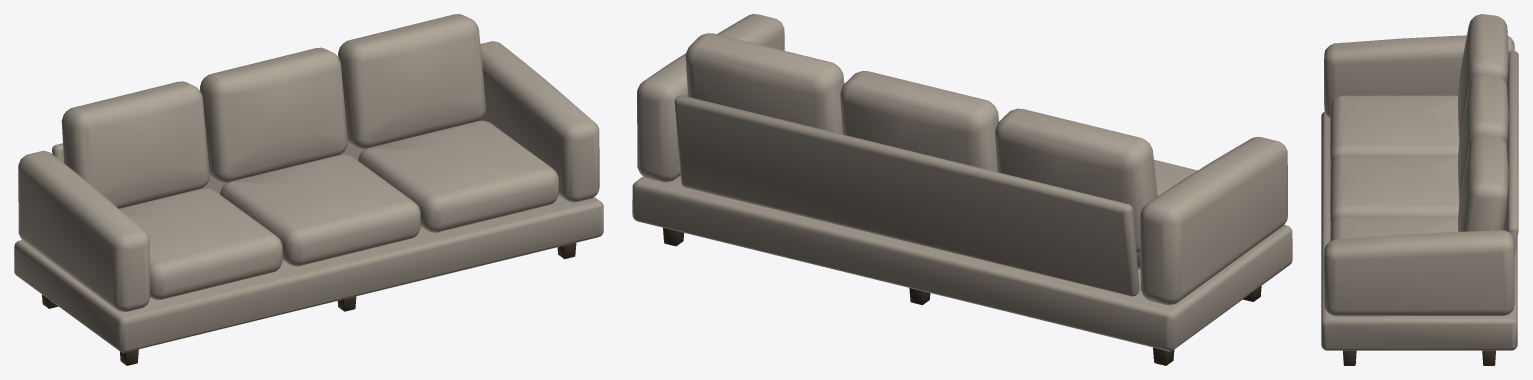
File: sofa-3-seater.glb
The picture shows the model from 3 angles, left to right: view 1: azimuth 30°, elevation 25°; view 2: azimuth 150°, elevation 25°; view 3: azimuth 270°, elevation 25°; orthographic projection. The views are drawn at different scales.
Visible parts, largest first — view 1: EQ_Mobile_sofa-3-seater_Upholstery, EQ_Mobile_sofa-3-seater_OakStructure; view 2: EQ_Mobile_sofa-3-seater_Upholstery, EQ_Mobile_sofa-3-seater_OakStructure; view 3: EQ_Mobile_sofa-3-seater_Upholstery, EQ_Mobile_sofa-3-seater_OakStructure.
Boxes of the visible parts, x1,y1,x2,y2 form: EQ_Mobile_sofa-3-seater_Upholstery: (14, 14, 603, 352); EQ_Mobile_sofa-3-seater_OakStructure: (42, 243, 576, 365); EQ_Mobile_sofa-3-seater_Upholstery: (632, 14, 1292, 351); EQ_Mobile_sofa-3-seater_OakStructure: (663, 227, 1261, 365); EQ_Mobile_sofa-3-seater_Upholstery: (1321, 14, 1518, 350); EQ_Mobile_sofa-3-seater_OakStructure: (1343, 350, 1495, 365).
Bounding box in the file's own units: 2.45 × 0.9158 × 0.9639.
